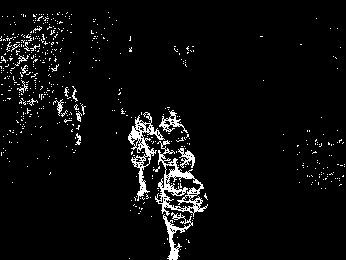person: (156, 151, 208, 260), (126, 112, 155, 203), (55, 85, 85, 154), (154, 105, 191, 153)
